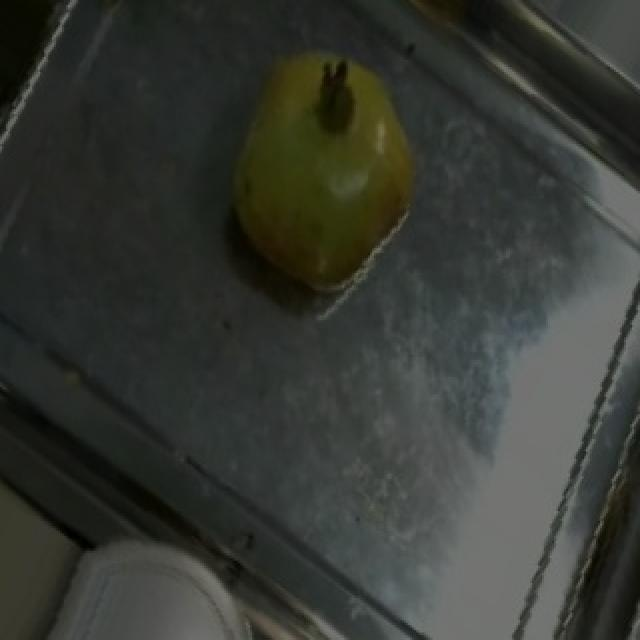fruit: (202, 2, 450, 266)
